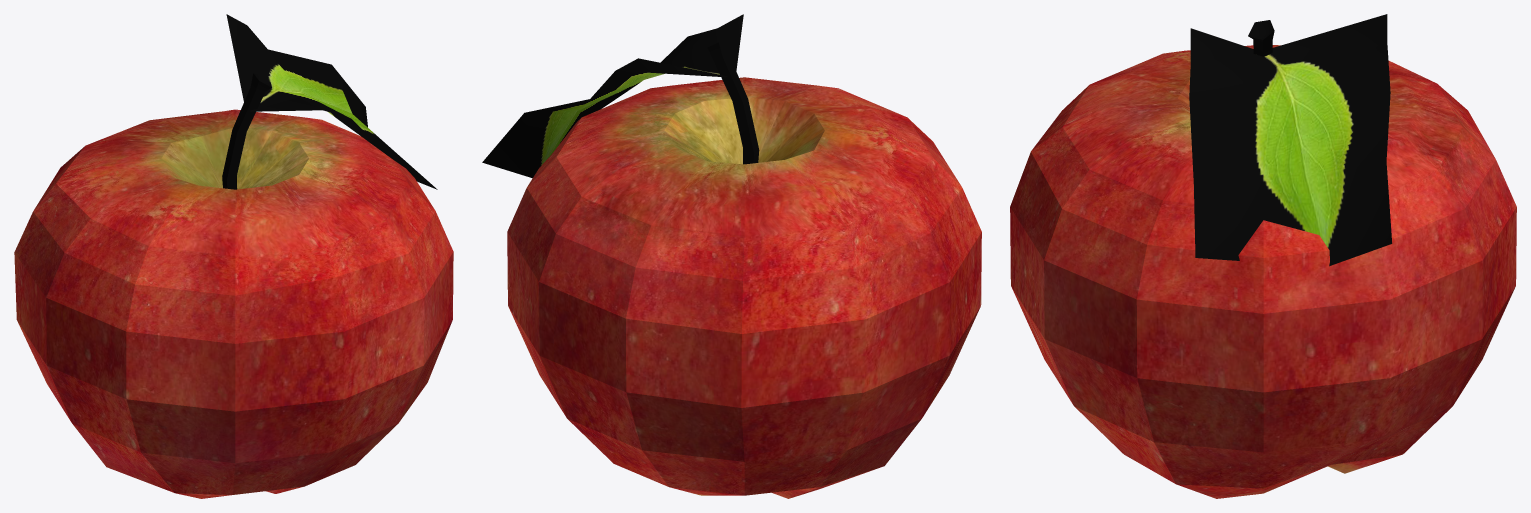
File: uploads_files_2332293_OBJ.obj
The picture shows the model from 3 angles, left to right: view 1: azimuth 30°, elevation 25°; view 2: azimuth 150°, elevation 25°; view 3: azimuth 270°, elevation 25°; orthographic projection. The views are drawn at different scales.
Visible parts, largest first — view 1: Red_apple; view 2: Red_apple; view 3: Red_apple.
Boxes of the visible parts, bbox=[...] form: Red_apple: bbox=[14, 14, 453, 498]; Red_apple: bbox=[482, 14, 981, 498]; Red_apple: bbox=[1010, 14, 1516, 498].
Bounding box in the file's own units: 2.02 × 2.09 × 2.02.
3 materials, 2 textured.
